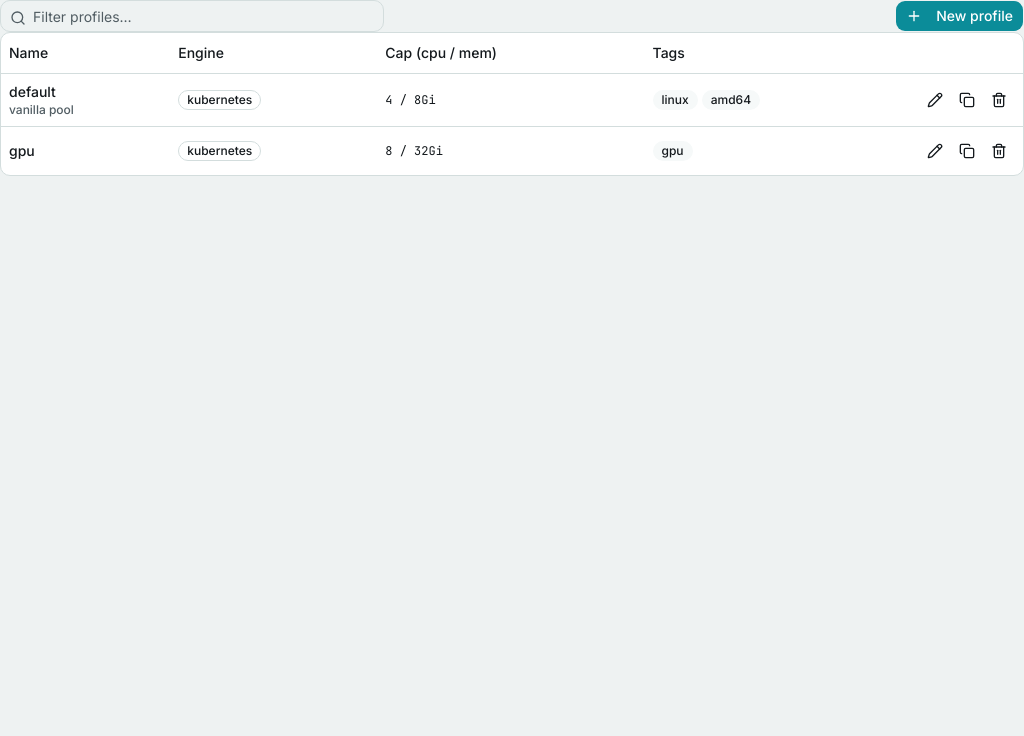
Test: ProfilesManager › opens an empty form for new profile
What coordinates should you click on to do the following:
click the button "New profile"
I would click on:
 (960, 16)
Its box is left=895, top=0, right=1023, bottom=32.
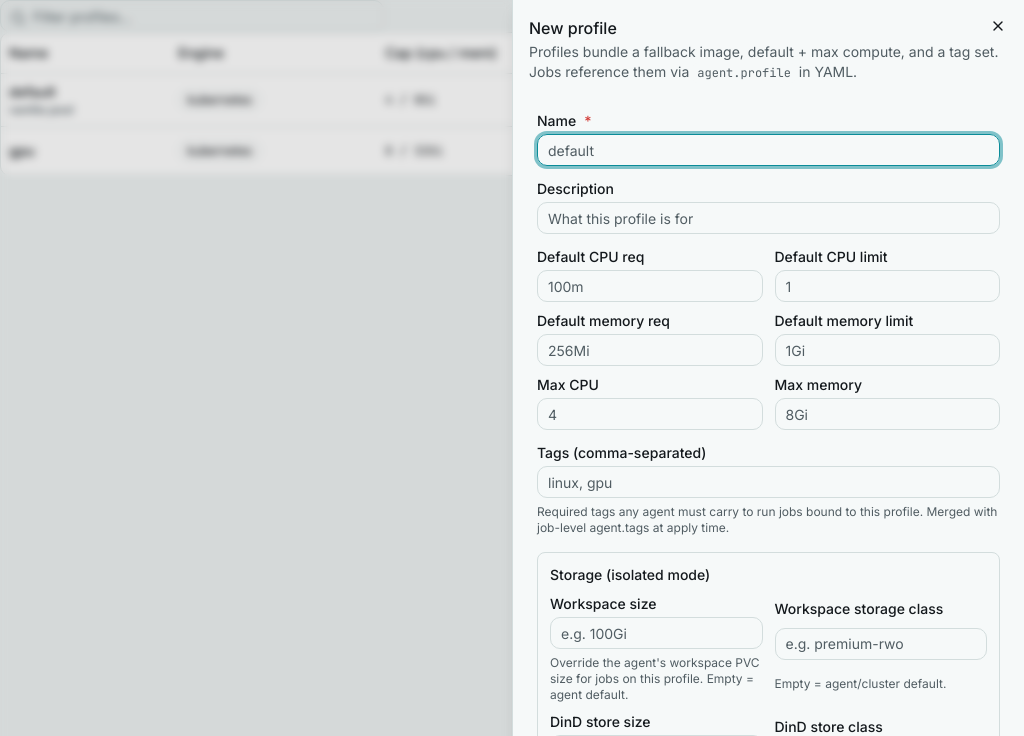
Expected: the heading "New profile" is shown, left=529, top=18, right=617, bottom=38
Expected: the field with placeholder "default" is empty, left=537, top=134, right=1000, bottom=166
